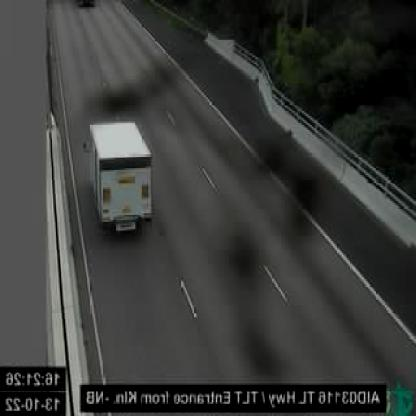Car: (79, 1, 96, 9)
Truck: (88, 120, 154, 234)
